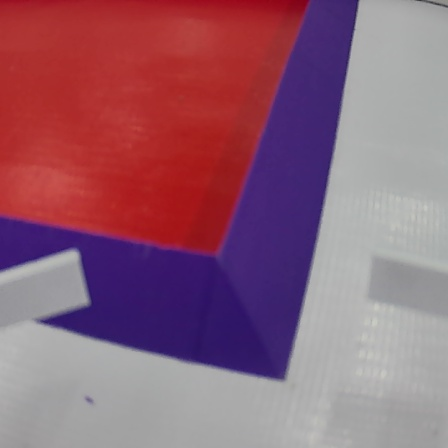red_aim: (0, 0, 359, 381)
